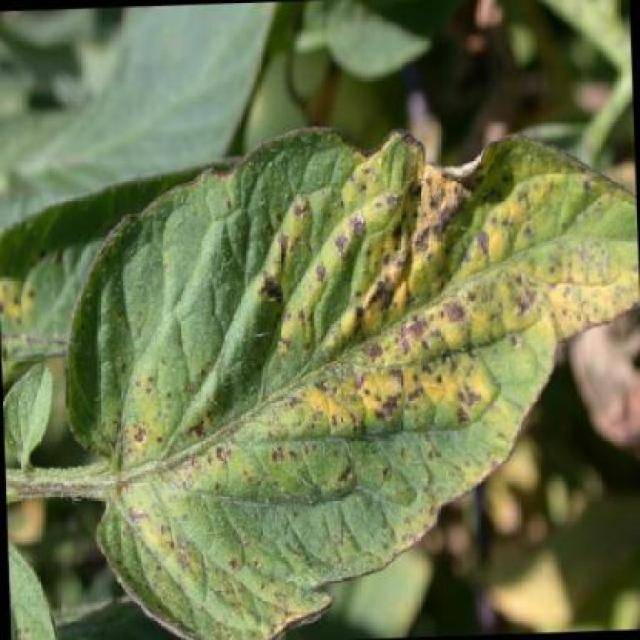Tomato leaf bacterial spot: (53, 111, 632, 617)
